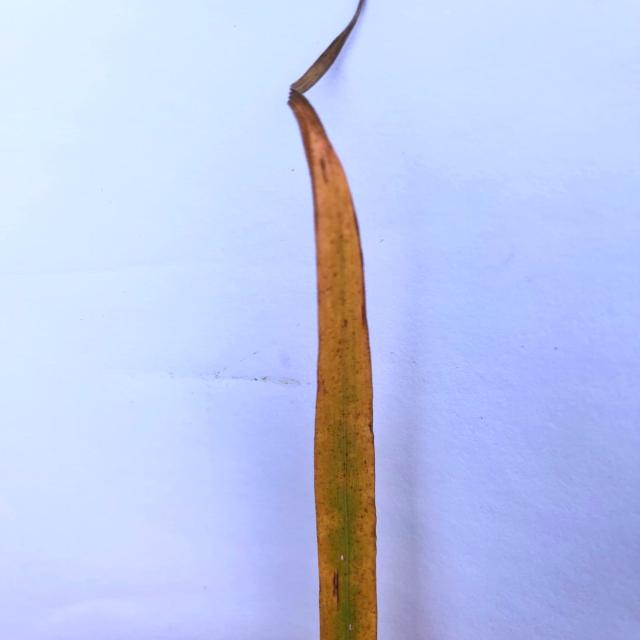tungro: (284, 92, 383, 640)
